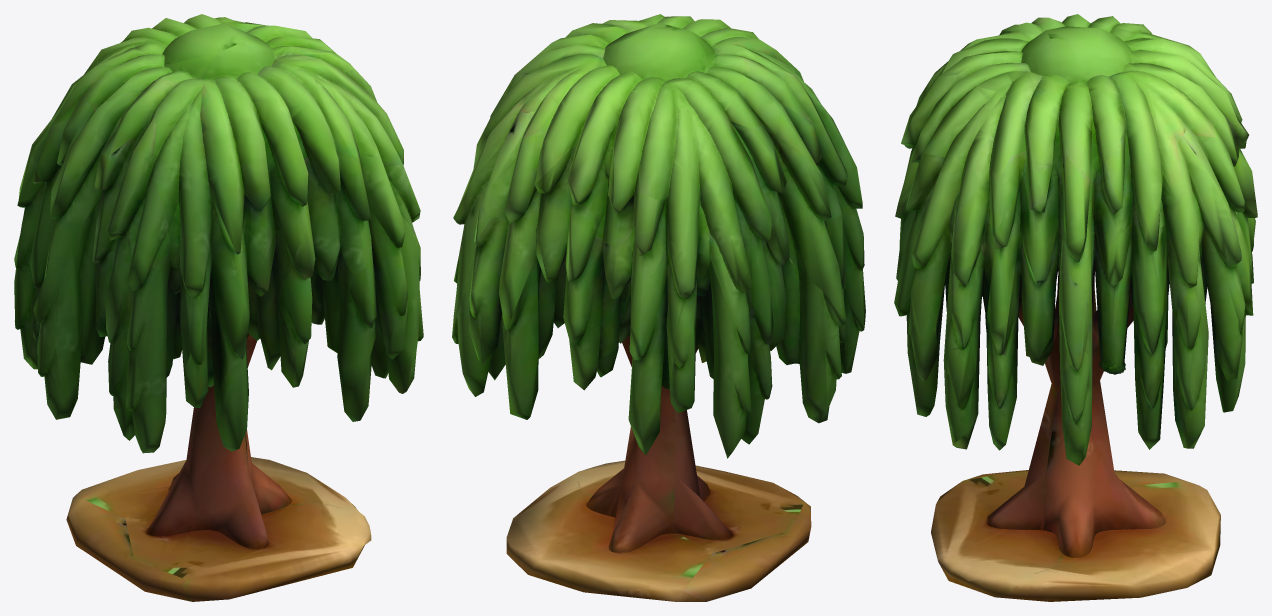
The model's file is willow_pbr.glb.
3 views of the same model, side by side, from view 1: azimuth 30°, elevation 25°; view 2: azimuth 150°, elevation 25°; view 3: azimuth 270°, elevation 25° (orthographic).
Parts seen in each view (by area): view 1: model.019; view 2: model.019; view 3: model.019.
Boxes of the visible parts, box(x1,y1,x2,y2) form: model.019: box(14, 14, 423, 601); model.019: box(452, 14, 865, 601); model.019: box(894, 14, 1257, 601).
Bounding box in the file's own units: 1.43 × 1.87 × 1.2.
Materials: 1 (1 with a texture image).
